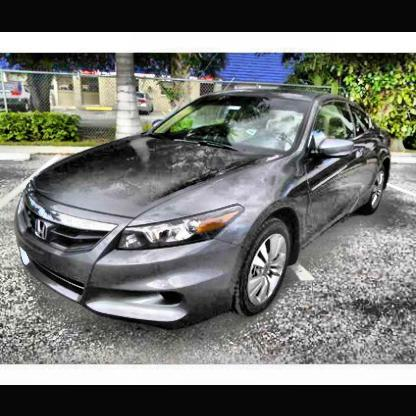Honda Accord Coupe 2012: (15, 91, 395, 326)
